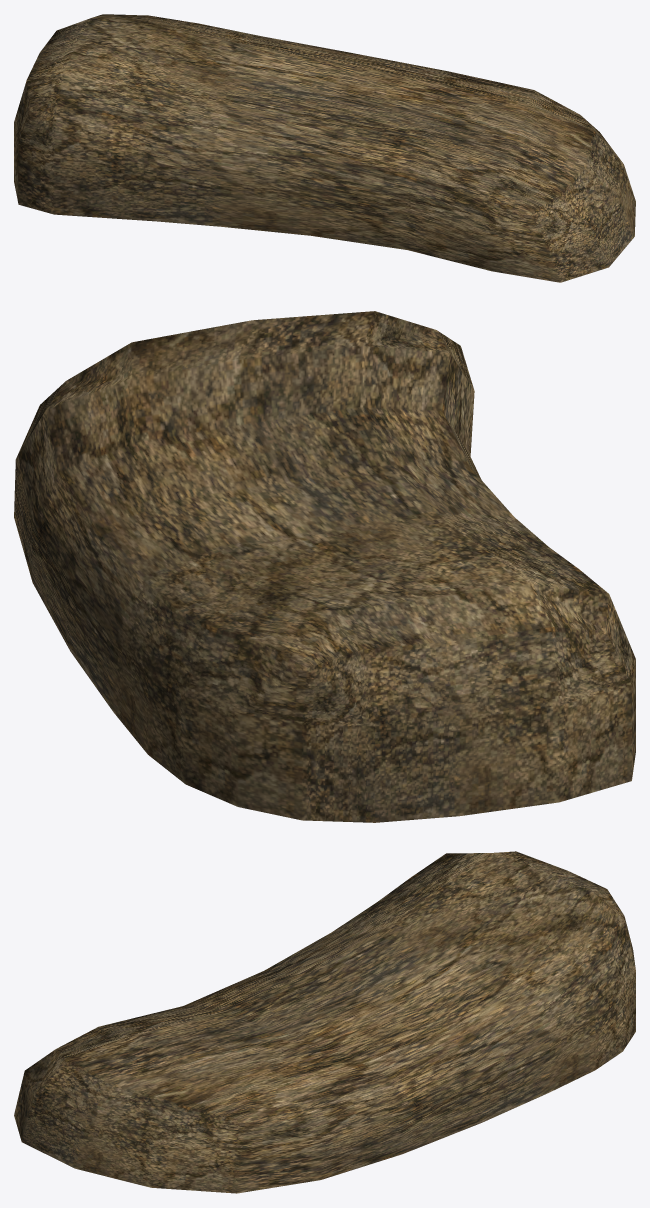
The model's file is CH09_SMAUG_PLAYSURFACE_LONELYMOUNTAIN_LM-STAIRS.fbx.
3 views of the same model, one above another, from view 1: azimuth 30°, elevation 25°; view 2: azimuth 150°, elevation 25°; view 3: azimuth 270°, elevation 25° (orthographic). The views are drawn at different scales.
Visible parts, largest first — view 1: CH09_SMAUG_PLAYSURFACE_LONELYMOUNTAIN_LM-STAIRS; view 2: CH09_SMAUG_PLAYSURFACE_LONELYMOUNTAIN_LM-STAIRS; view 3: CH09_SMAUG_PLAYSURFACE_LONELYMOUNTAIN_LM-STAIRS.
Boxes of the visible parts, bbox=[...] form: CH09_SMAUG_PLAYSURFACE_LONELYMOUNTAIN_LM-STAIRS: bbox=[14, 14, 635, 282]; CH09_SMAUG_PLAYSURFACE_LONELYMOUNTAIN_LM-STAIRS: bbox=[14, 311, 635, 822]; CH09_SMAUG_PLAYSURFACE_LONELYMOUNTAIN_LM-STAIRS: bbox=[14, 851, 635, 1193].
Size of the model in its own units: 150174 by 34276 by 159340.
1 material, 1 textured.
